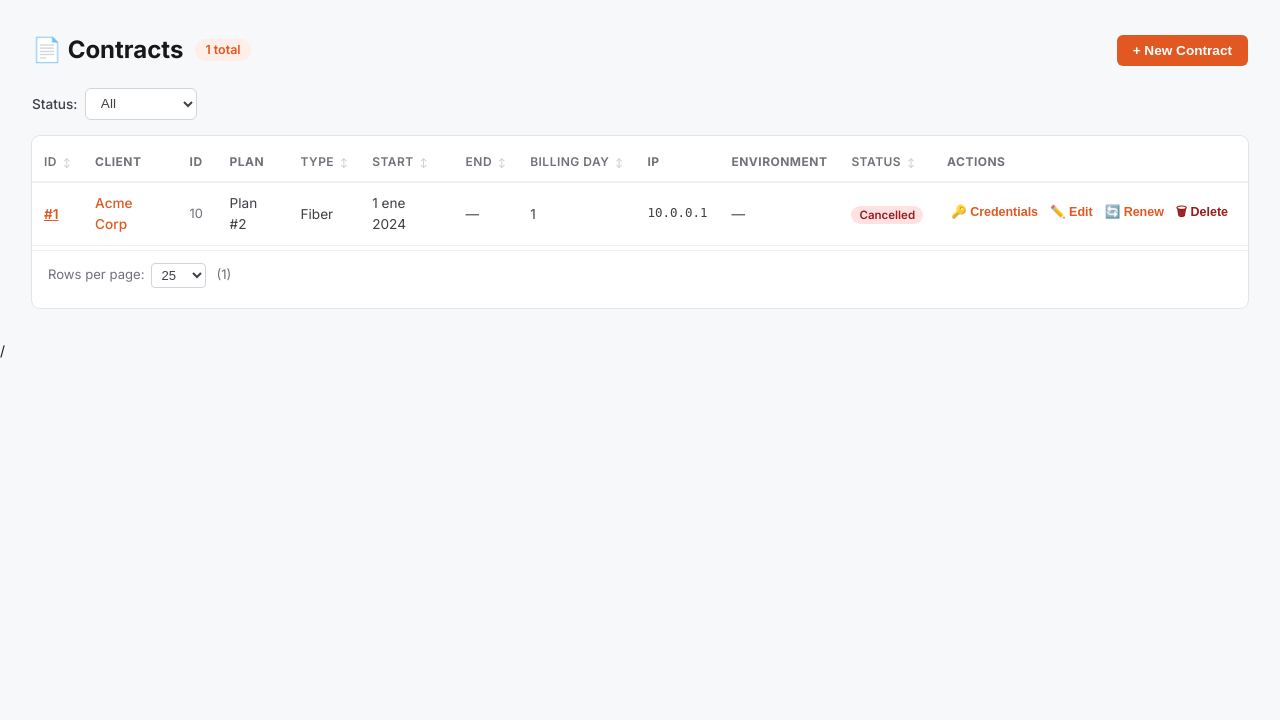
Test case: ContractList page › navigates a never-activated renewal to its required activation workflow
Click the button "🔄 Renew" at (1134, 212), box left=1101, top=202, right=1168, bottom=221
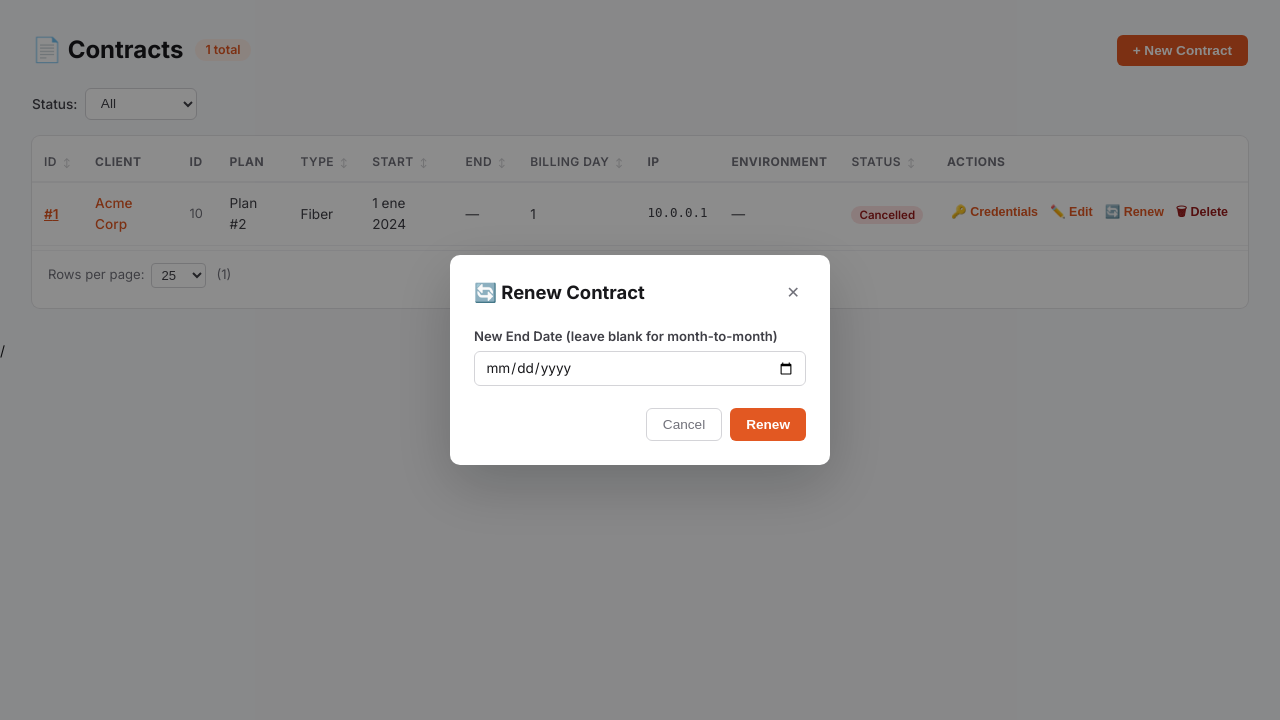
Click the button "Renew" at (768, 424), box left=730, top=408, right=806, bottom=441
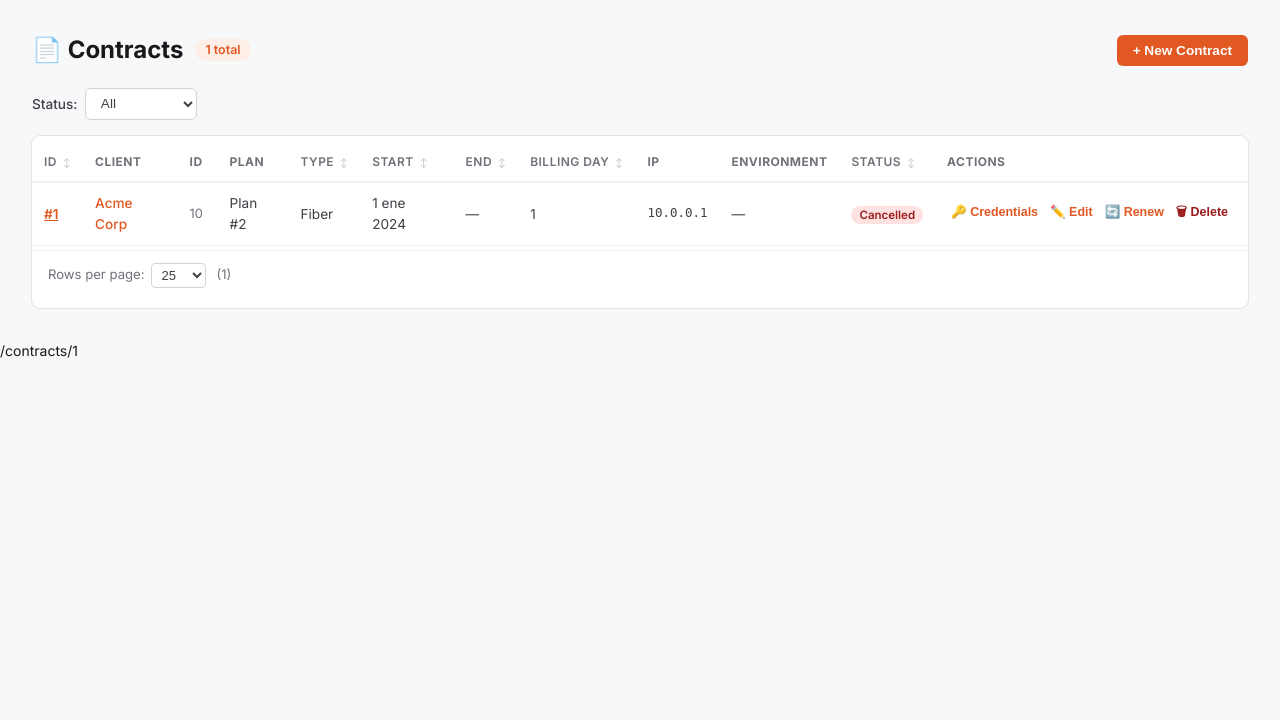
expect the text with test id "location" reads "/contracts/1": met, box left=0, top=342, right=78, bottom=359
